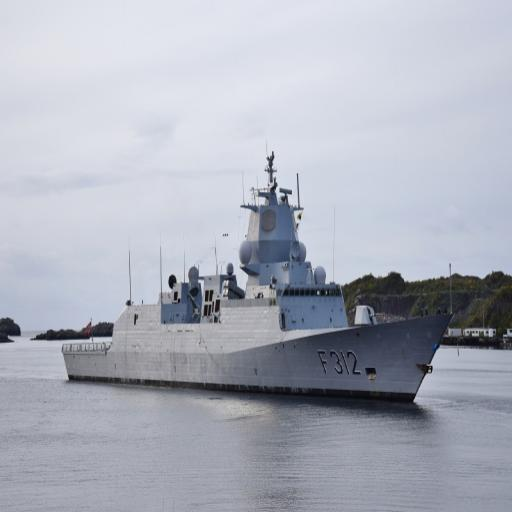Fragata: (61, 144, 461, 412)
